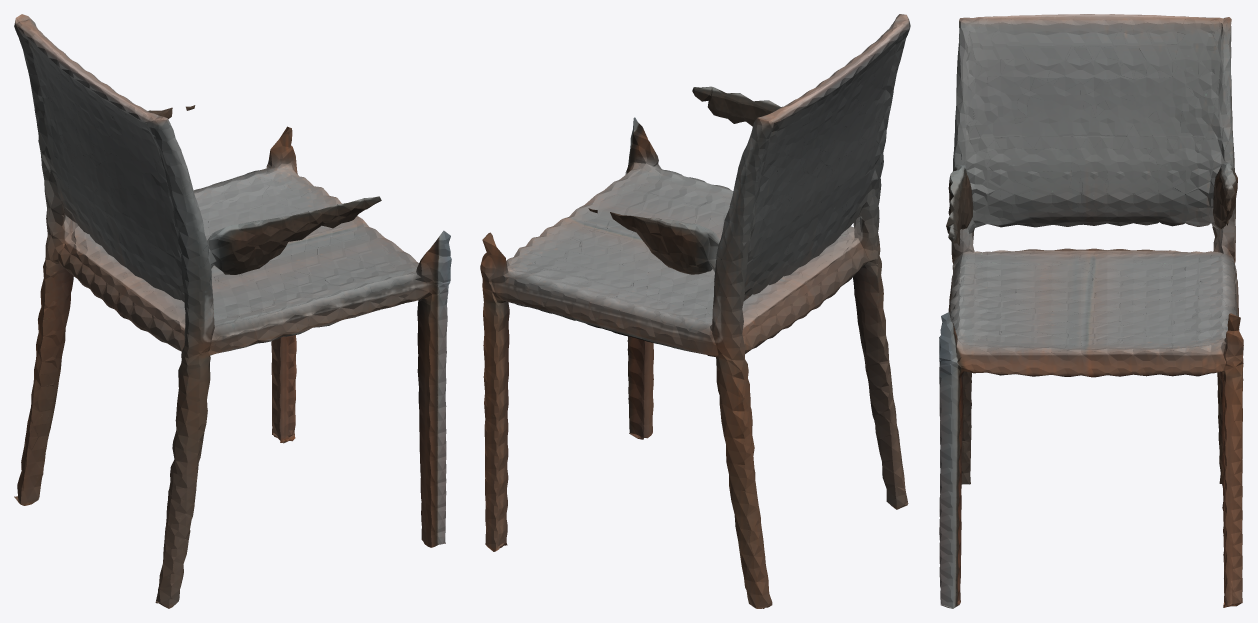
The model's file is elem_94_115_206_213_4_9.obj.
3 views of the same model, side by side, from view 1: azimuth 30°, elevation 25°; view 2: azimuth 150°, elevation 25°; view 3: azimuth 270°, elevation 25° (orthographic). The views are drawn at different scales.
Bounding box in the file's own units: 0.445 × 0.7012 × 0.4159.
Materials: 1 (1 with a texture image).
